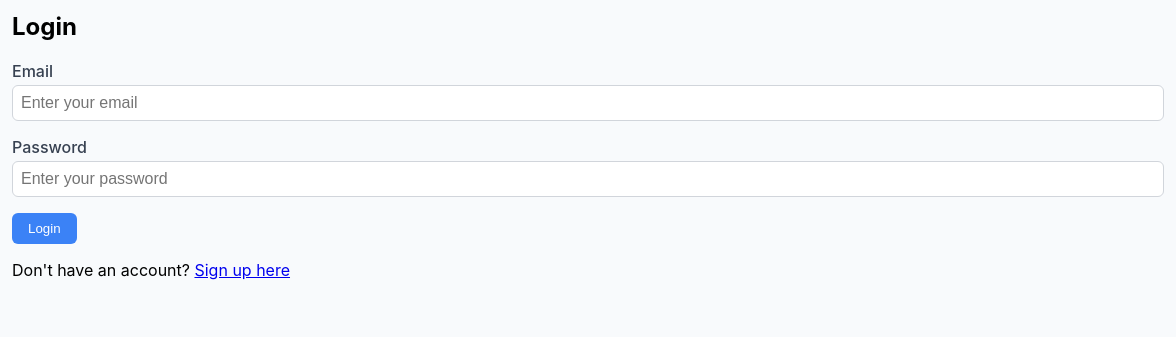
Test: LoginForm Component › validates password length
The width and height of the screenshot is (1176, 337).
Step 1. Type "123" into the password field with test id "password-input" → {"x": 588, "y": 179}, box [12,161,1164,197]
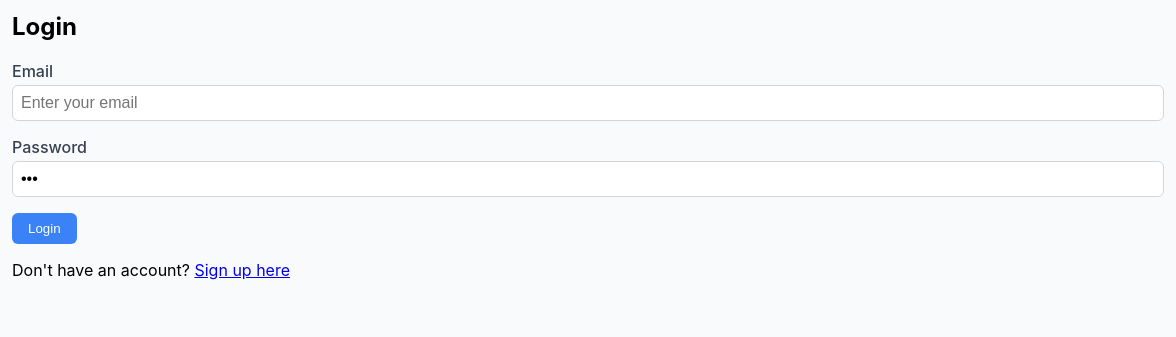
Step 2. Click the button with test id "submit-button" → {"x": 44, "y": 228}, box [12,213,77,244]
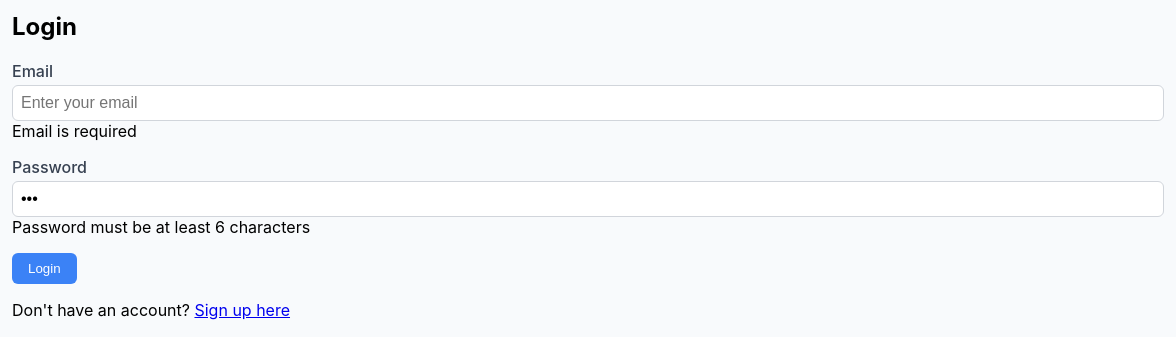
Now the text with test id "password-error" reads "Password must be at least 6 characters", box [12,217,310,237]
